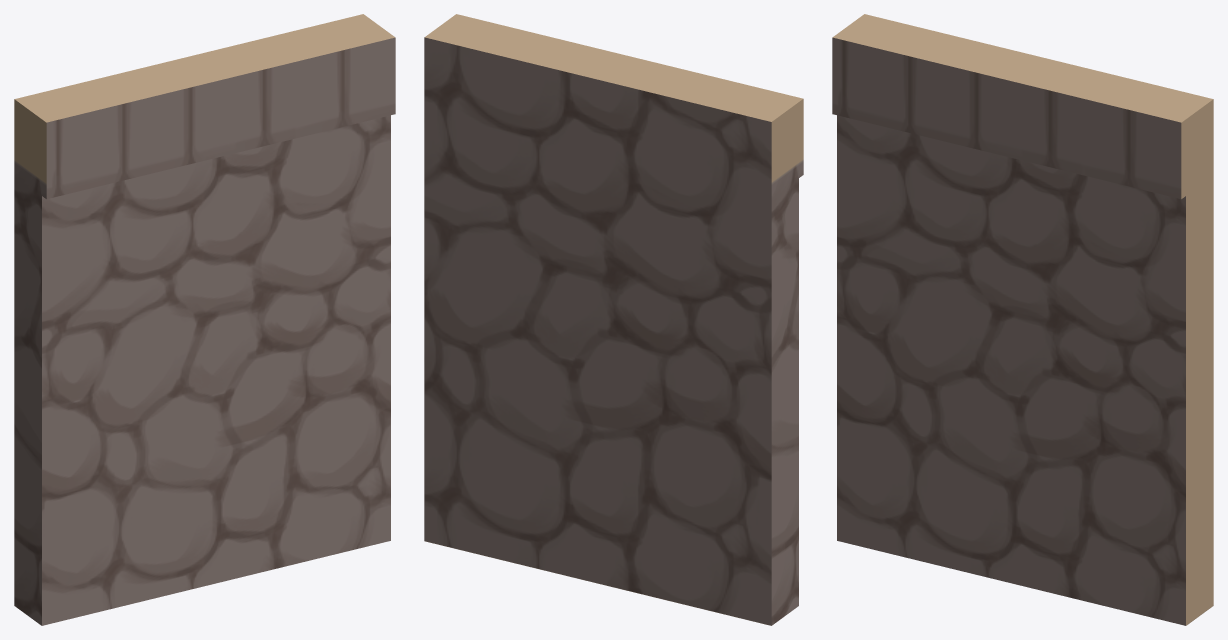
Rendered from schoolstoneWall.fbx.
3 views of the same model, side by side, from view 1: azimuth 30°, elevation 25°; view 2: azimuth 150°, elevation 25°; view 3: azimuth 330°, elevation 25° (orthographic).
Visible parts, largest first — view 1: stoneWall; view 2: stoneWall; view 3: stoneWall.
Part boxes in pixels (bbox=[...]): stoneWall: bbox=[14, 14, 395, 625]; stoneWall: bbox=[424, 14, 803, 625]; stoneWall: bbox=[832, 14, 1213, 625].
Bounding box in the file's own units: 164 × 227 × 26.07.
1 material, 1 textured.
